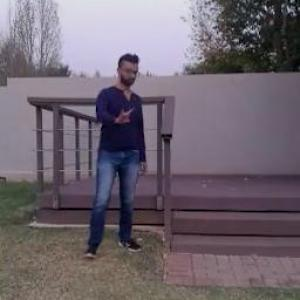takeoff-hand: (108, 95, 139, 130)
